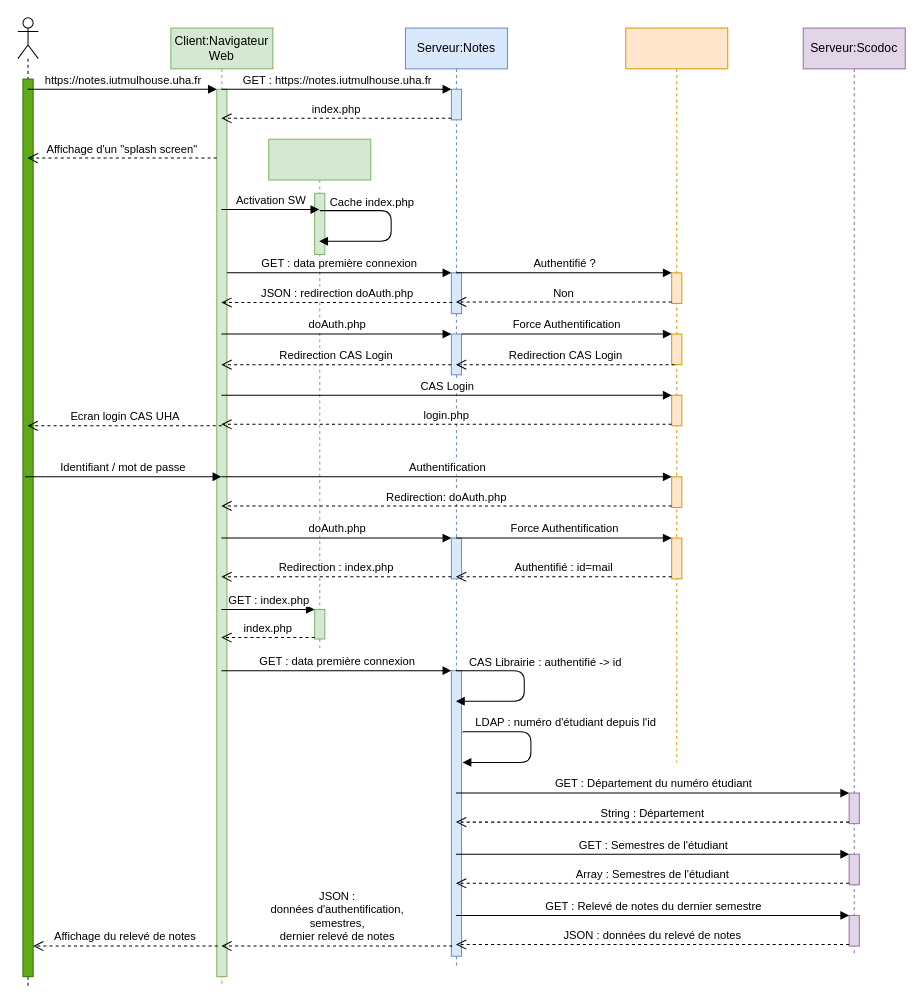
Some shapes in this 923 by 1005 pixel diagram are drawn without their labels. Here are the shapes that lost their labels. From the top down, the box of each, then its label:
(268, 138, 371, 650): Client:Service worker / cache API
(625, 27, 728, 762): Serveur:CAS
